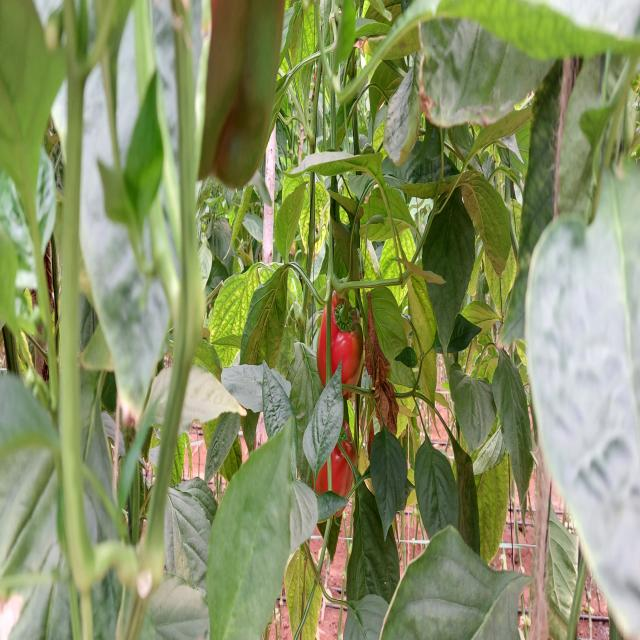BrownishRed--Can-be-Harvested: (316, 281, 364, 401), (316, 412, 354, 520)
